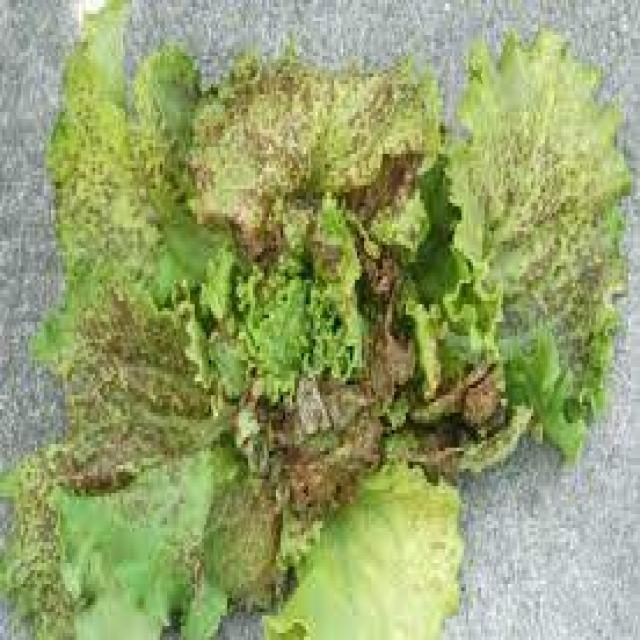Viral: (170, 120, 435, 527)
